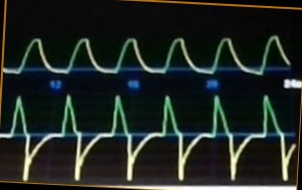Normal Flow: (2, 92, 296, 183)
Normal Volume: (4, 27, 290, 76)
